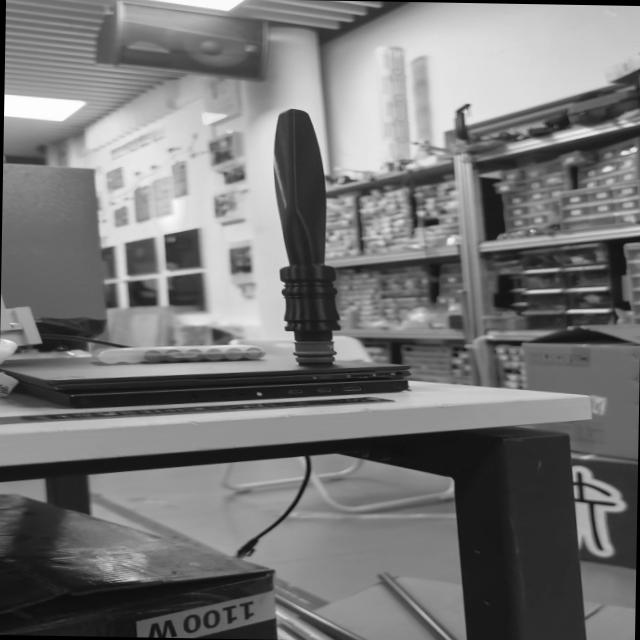base: (290, 340, 337, 364)
